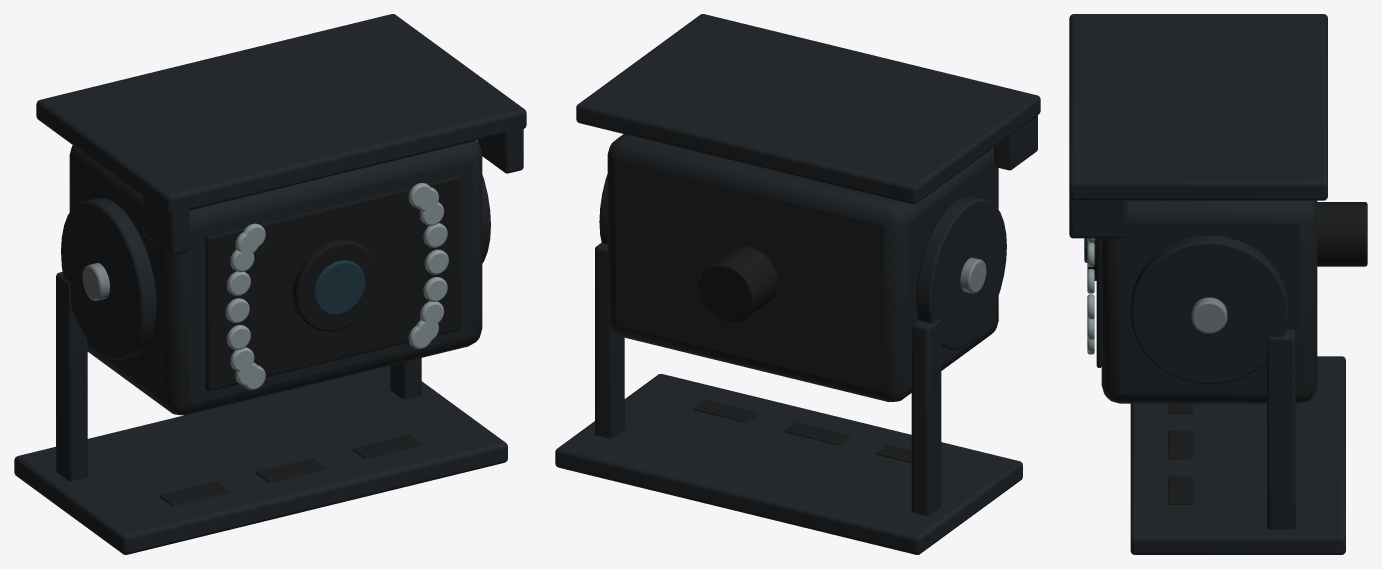
Rendered from pp804395_texture_ready.glb.
3 views of the same model, side by side, from view 1: azimuth 30°, elevation 25°; view 2: azimuth 150°, elevation 25°; view 3: azimuth 270°, elevation 25° (orthographic). The views are drawn at different scales.
Parts seen in each view (by area): view 1: sun_shield_top, mount_base, camera_housing, front_face_inset, pivot_plate_left, bracket_left, lens_bezel, camera_lens, sun_shield_left, sun_shield_right, bracket_right, pivot_screw_left (+3 smaller); view 2: camera_housing, sun_shield_top, mount_base, pivot_plate_left, bracket_left, weatherproof_connector, bracket_right, sun_shield_left, pivot_screw_left, mounting_slot.001, mounting_slot.002; view 3: sun_shield_top, mount_base, camera_housing, pivot_plate_right, bracket_right, weatherproof_connector, sun_shield_right, pivot_screw_right, front_face_inset, mounting_slot.001, mounting_slot.002.
Part boxes in pixels (<box>): sun_shield_top: <box>36,14,526,214</box>; mount_base: <box>14,365,507,554</box>; camera_housing: <box>69,141,482,415</box>; front_face_inset: <box>205,175,460,391</box>; pivot_plate_left: <box>61,198,156,360</box>; bracket_left: <box>56,272,87,480</box>; lens_bezel: <box>292,239,379,331</box>; camera_lens: <box>313,260,365,315</box>; sun_shield_left: <box>143,197,189,254</box>; sun_shield_right: <box>477,121,523,173</box>; bracket_right: <box>390,358,421,399</box>; pivot_screw_left: <box>82,263,109,300</box>; camera_housing: <box>607,134,998,401</box>; sun_shield_top: <box>576,14,1040,204</box>; mount_base: <box>555,374,1022,554</box>; pivot_plate_left: <box>916,196,1006,349</box>; bracket_left: <box>911,319,941,515</box>; weatherproof_connector: <box>699,246,777,322</box>; bracket_right: <box>595,243,624,438</box>; sun_shield_left: <box>994,115,1037,170</box>; pivot_screw_left: <box>960,257,986,293</box>; mounting_slot.001: <box>784,422,850,445</box>; mounting_slot.002: <box>693,400,758,422</box>; sun_shield_top: <box>1069,14,1327,200</box>; mount_base: <box>1130,356,1345,554</box>; camera_housing: <box>1101,200,1317,403</box>; pivot_plate_right: <box>1130,235,1288,384</box>; bracket_right: <box>1267,329,1295,529</box>; weatherproof_connector: <box>1317,202,1367,266</box>; sun_shield_right: <box>1069,197,1126,238</box>; pivot_screw_right: <box>1191,297,1227,333</box>; front_face_inset: <box>1096,238,1101,367</box>; mounting_slot.001: <box>1168,431,1193,459</box>; mounting_slot.002: <box>1168,476,1193,504</box>.
Size of the model in its own units: 0.12 by 0.113 by 0.083.
Materials: 5 (5 with a texture image).
